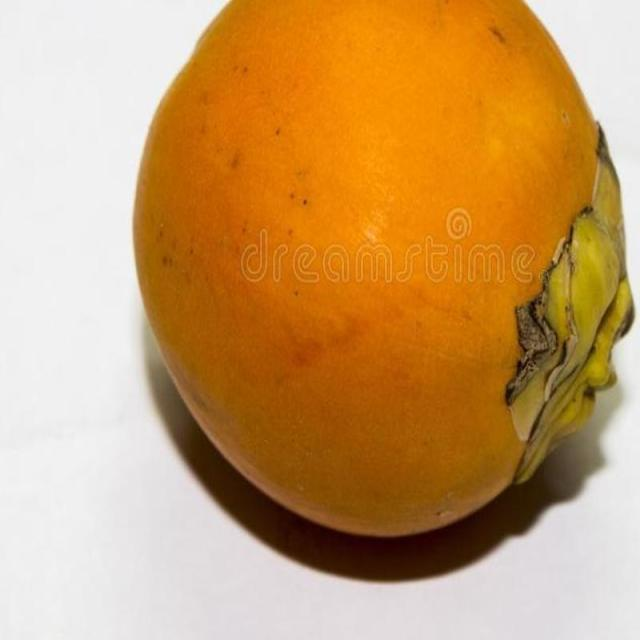good: (132, 0, 634, 542)
